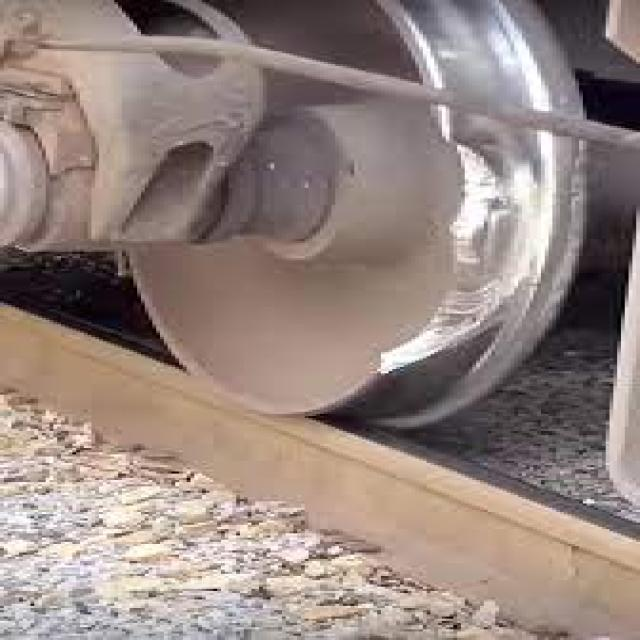Out_Of_Roundness: (404, 144, 588, 374)
